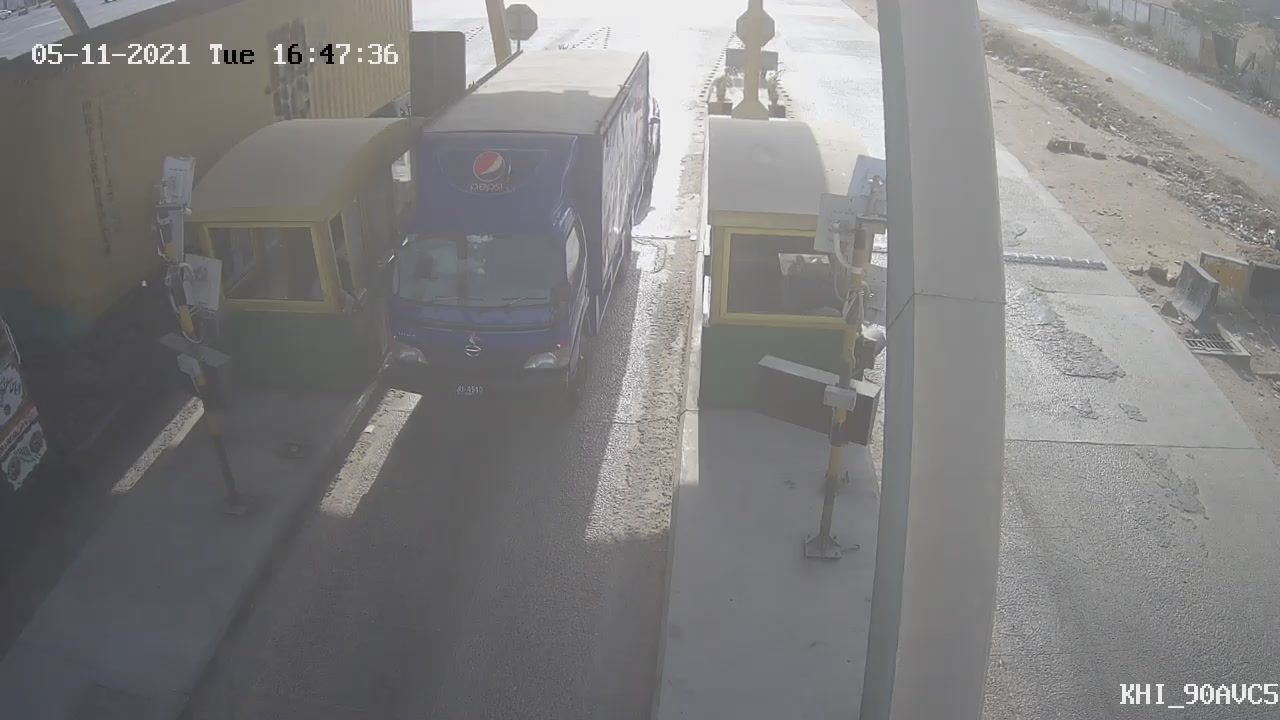F5: (324, 25, 687, 438)
